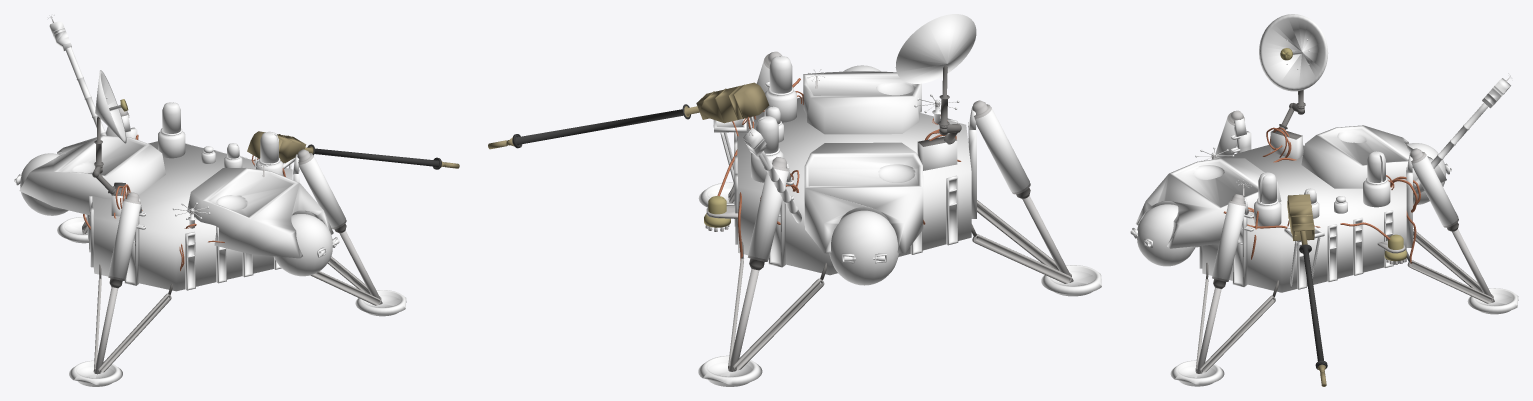
File: space-viking.glb
3 views of the same model, side by side, from view 1: azimuth 30°, elevation 25°; view 2: azimuth 150°, elevation 25°; view 3: azimuth 270°, elevation 25° (orthographic). The views are drawn at different scales.
Parts seen in each view (by area): view 1: polySurfa1, polySurfa2; view 2: polySurfa1, polySurfa2; view 3: polySurfa1, polySurfa2.
Boxes of the visible parts, x1,y1,x2,y2 form: polySurfa1: [14, 14, 459, 386]; polySurfa2: [83, 134, 258, 270]; polySurfa1: [488, 14, 1101, 386]; polySurfa2: [717, 95, 961, 260]; polySurfa1: [1130, 14, 1518, 386]; polySurfa2: [1211, 127, 1420, 263].
Bounding box in the file's own units: 16.74 × 8.97 × 12.55.
4 materials, 4 textured.
